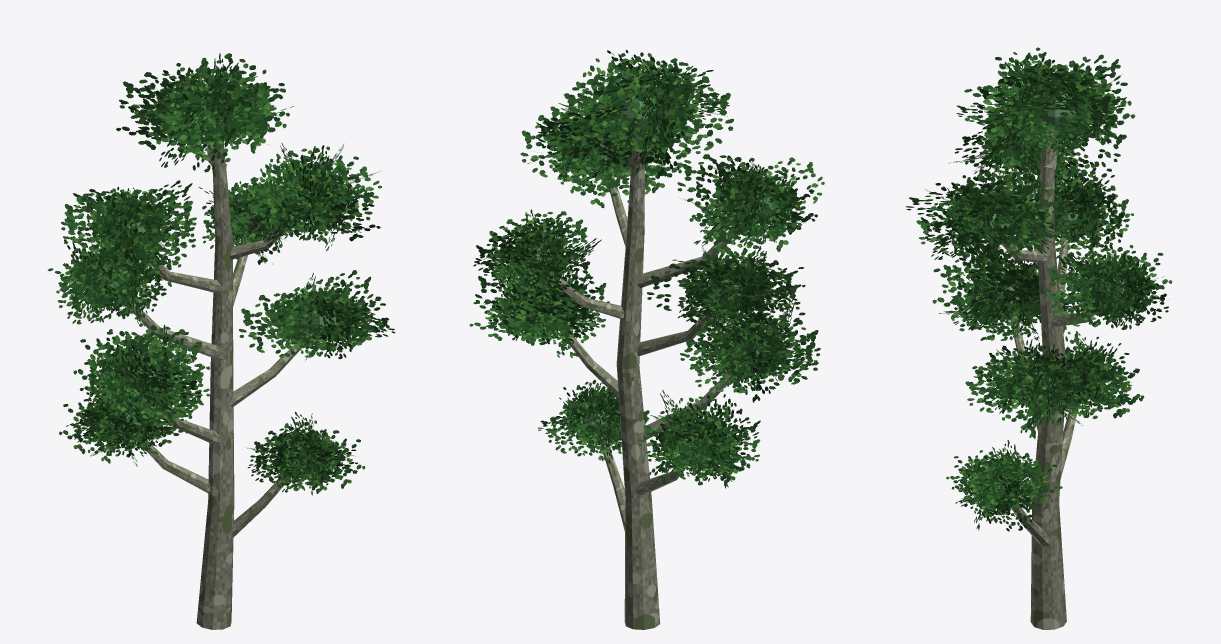
Rendered from bunga_bonsai_taman.glb.
The picture shows the model from 3 angles, left to right: view 1: azimuth 30°, elevation 25°; view 2: azimuth 150°, elevation 25°; view 3: azimuth 270°, elevation 25°; orthographic projection.
Visible parts, largest first — view 1: Daun_Awan_Bonsai, Batang_Bonsai_Lumut, Inti_Tajuk_Bonsai; view 2: Daun_Awan_Bonsai, Batang_Bonsai_Lumut, Inti_Tajuk_Bonsai; view 3: Daun_Awan_Bonsai, Batang_Bonsai_Lumut, Inti_Tajuk_Bonsai.
Boxes of the visible parts, <box> form: Daun_Awan_Bonsai: <box>48,53,395,495</box>; Batang_Bonsai_Lumut: <box>123,138,312,629</box>; Inti_Tajuk_Bonsai: <box>95,100,339,465</box>; Daun_Awan_Bonsai: <box>469,50,824,488</box>; Batang_Bonsai_Lumut: <box>550,134,737,629</box>; Inti_Tajuk_Bonsai: <box>522,95,775,453</box>; Daun_Awan_Bonsai: <box>905,47,1172,531</box>; Batang_Bonsai_Lumut: <box>1001,125,1096,629</box>; Inti_Tajuk_Bonsai: <box>974,92,1129,496</box>.
Size of the model in its own units: 1.31 by 1.96 by 1.
3 materials, 2 textured.
